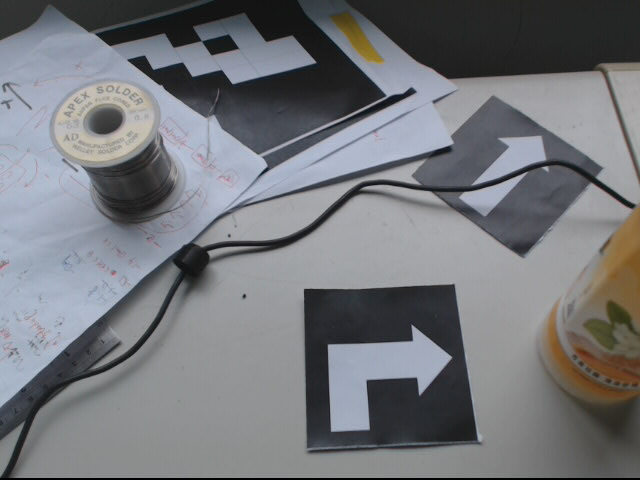right: (303, 284, 483, 452)
